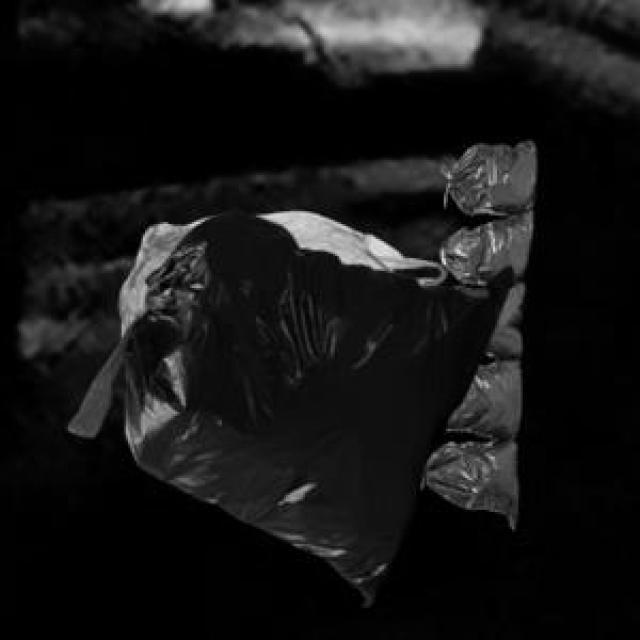miscellaneous trash: (64, 205, 508, 604), (420, 137, 531, 525)
